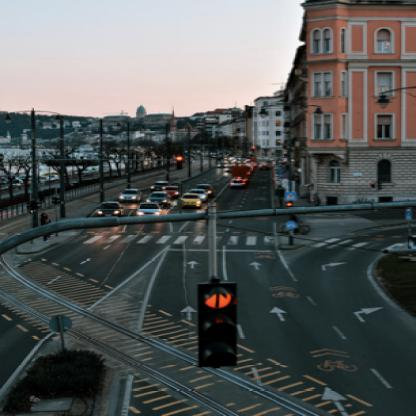trafficlight: (195, 280, 236, 365)
